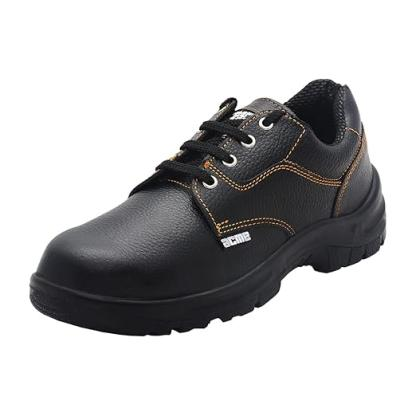bota: (26, 76, 390, 340)
